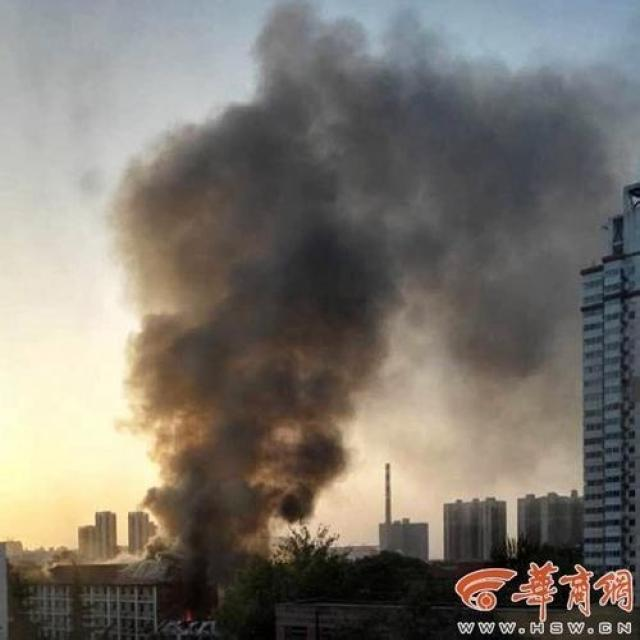Smoke: (92, 1, 640, 588)
